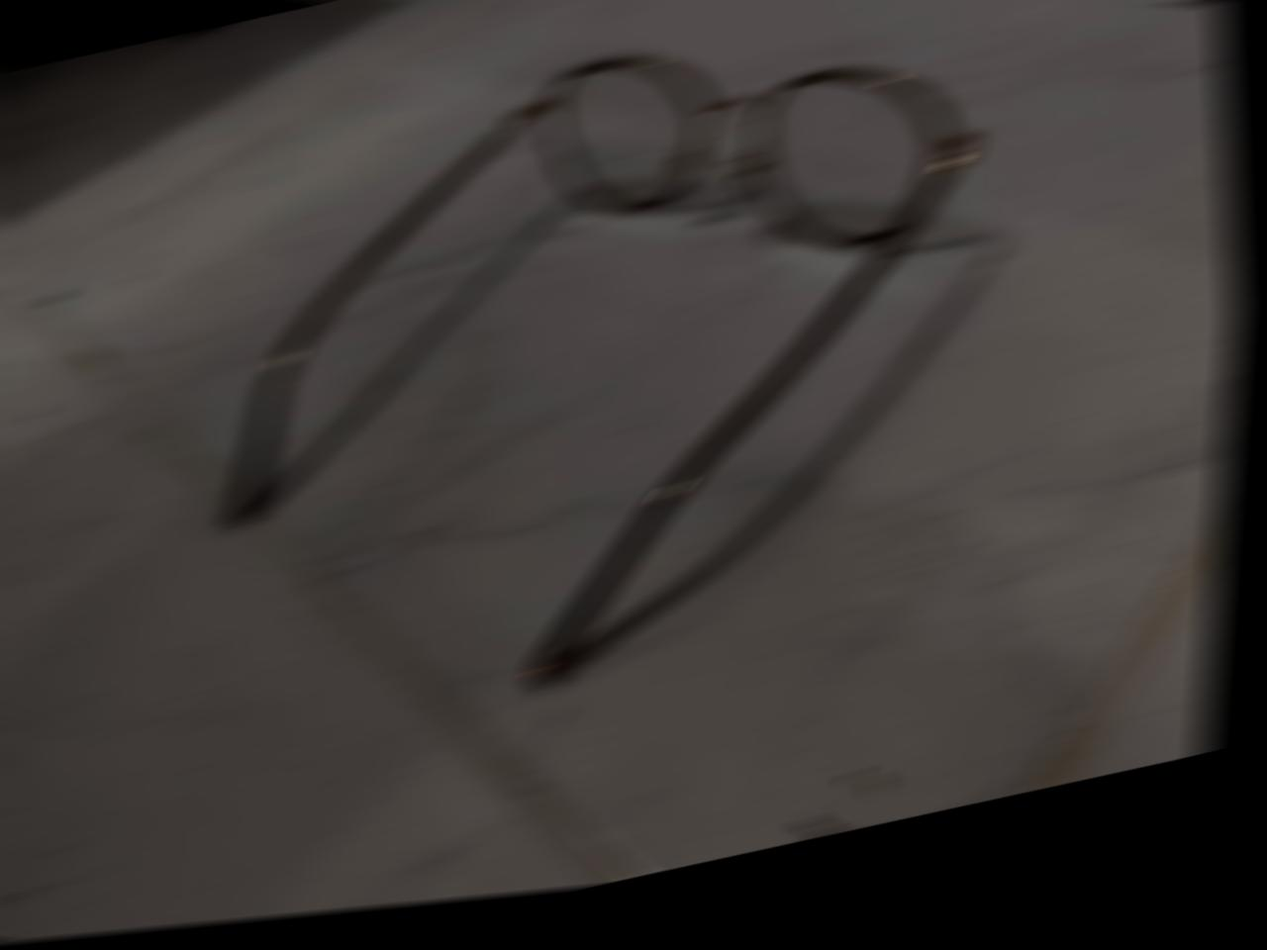glasses: (137, 1, 1060, 757)
